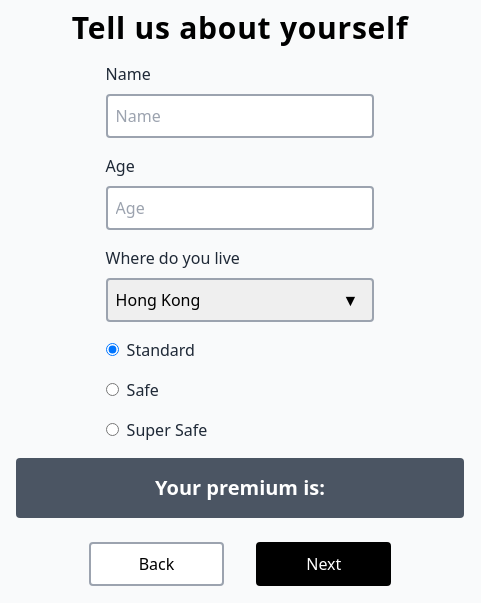
Test: SecondPage › is able to calculate price based on super safe package
Type "10" into the number field with placeholder "Age" at (240, 208), box x1=106 y1=186 x2=374 y2=230
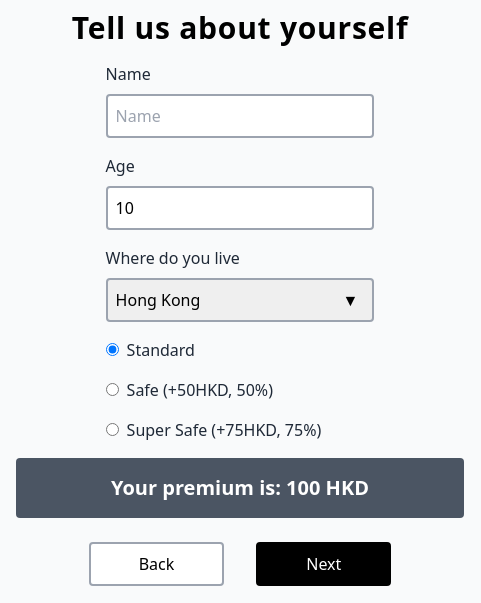
Select "Hong Kong" in the dropdown at (240, 300), box x1=106 y1=278 x2=374 y2=322
Click the radio button labelled "Super Safe (+75HKD, 75%)" at (112, 430), box x1=106 y1=423 x2=119 y2=436
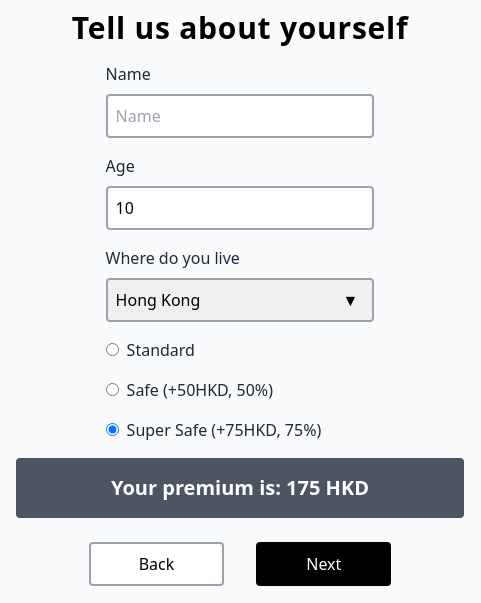
Now the element with test id "final-price" shows "175 HKD", box x1=286 y1=474 x2=369 y2=501
Select "United States" in the dropdown at (240, 300), box x1=106 y1=278 x2=374 y2=322
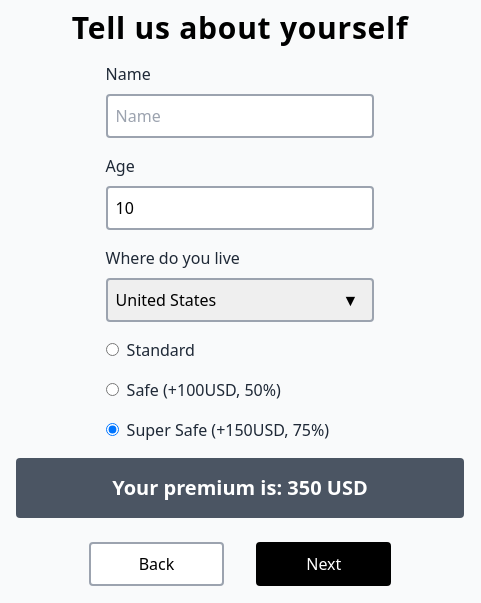
Now the element with test id "final-price" shows "350 USD", box x1=287 y1=474 x2=368 y2=501
Select "Australia" in the dropdown at (240, 300), box x1=106 y1=278 x2=374 y2=322
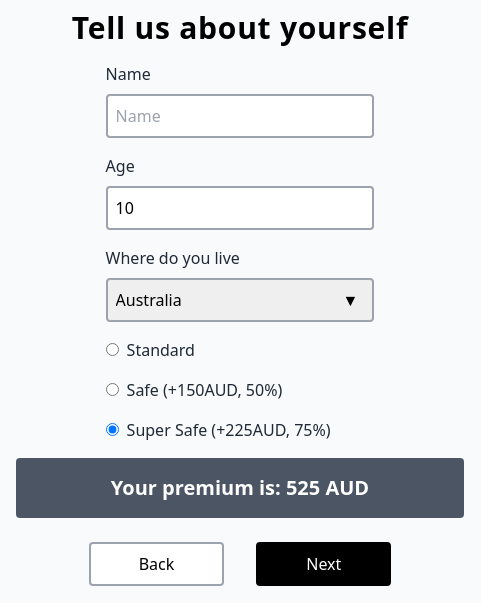
Now the element with test id "final-price" shows "525 AUD", box x1=286 y1=474 x2=369 y2=501
